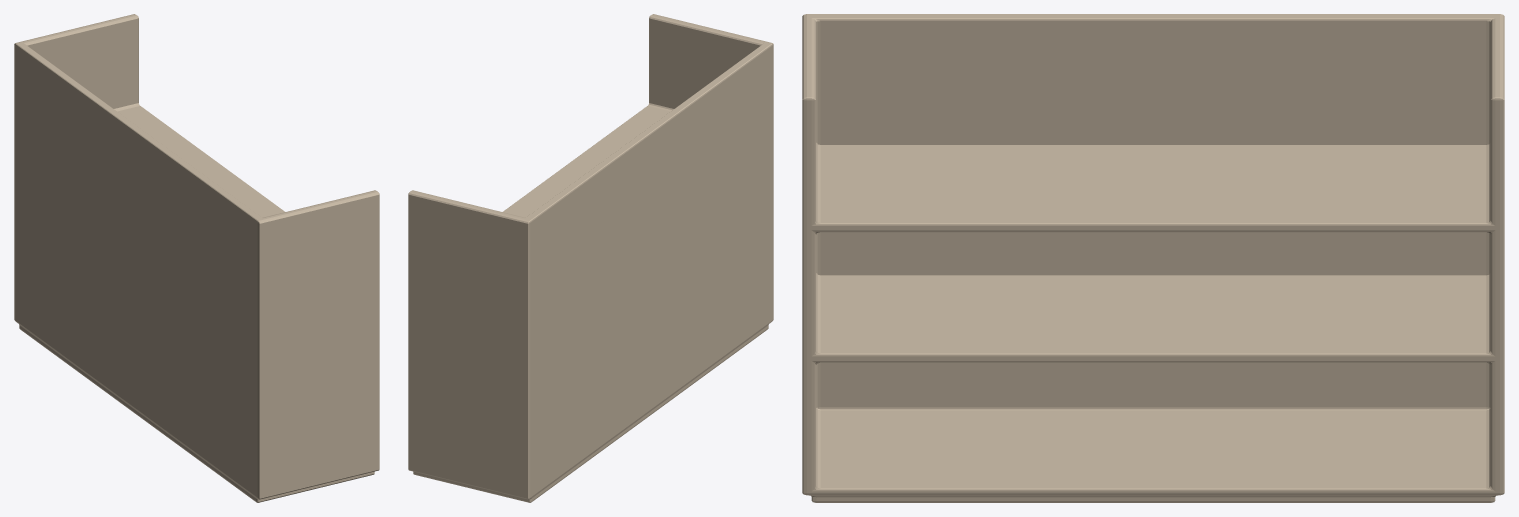
File: Shelf02.fbx
The picture shows the model from 3 angles, left to right: view 1: azimuth 30°, elevation 25°; view 2: azimuth 150°, elevation 25°; view 3: azimuth 270°, elevation 25°; orthographic projection. The views are drawn at different scales.
Visible parts, largest first — view 1: Regal2_einseitig; view 2: Regal2_einseitig; view 3: Regal2_einseitig.
Boxes of the visible parts, x1=… form: Regal2_einseitig: x1=14, y1=14, x2=379, y2=502; Regal2_einseitig: x1=408, y1=14, x2=773, y2=502; Regal2_einseitig: x1=802, y1=14, x2=1504, y2=502.
Bounding box in the file's own units: 267 × 600 × 939.
